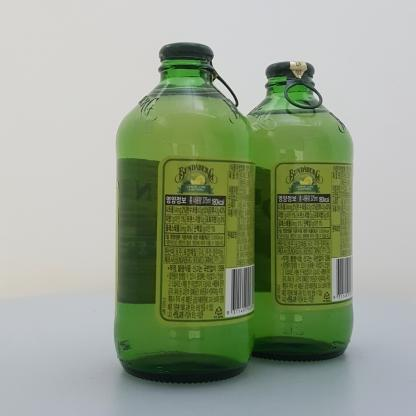------------375ML: (115, 42, 255, 384), (237, 61, 353, 362)
